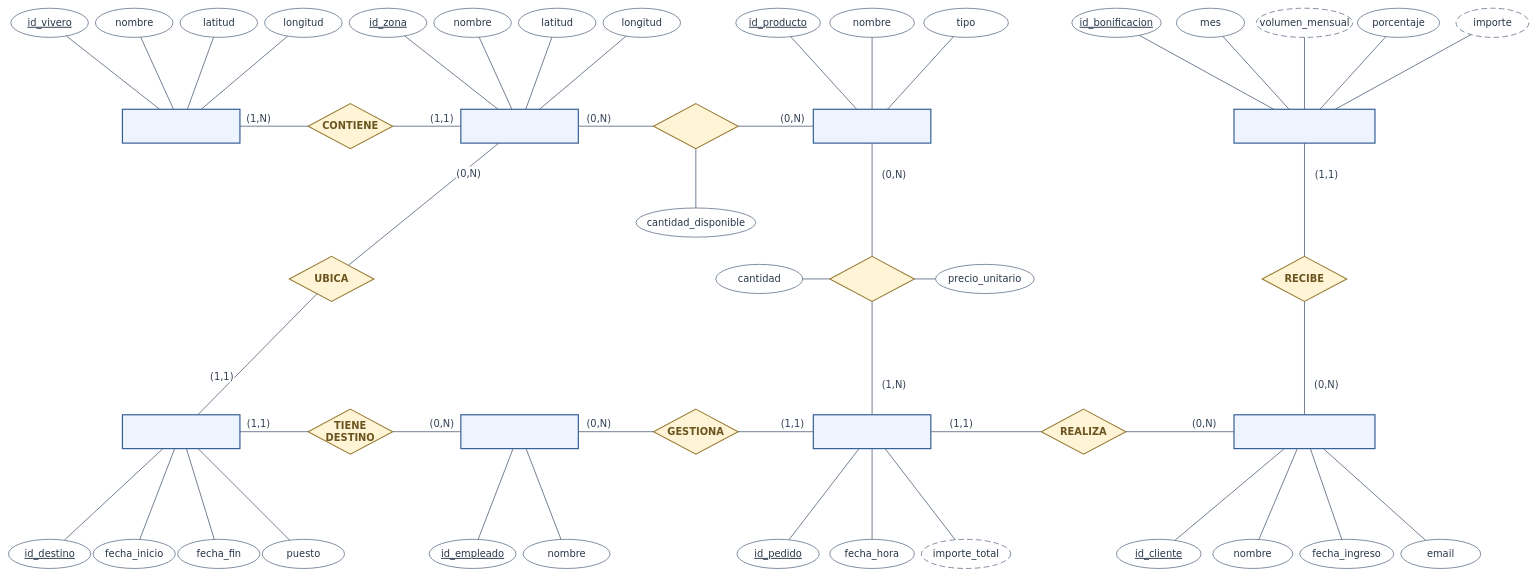
Some shapes in this 1537 by 577 pixel diagram are drawn without their labels. The shapes that lost their labels are listed below. From the top down, each one's centre as x and y in pixels, then its label:
At point 181,125: "VIVERO".
At point 519,125: "ZONA".
At point 695,126: "ALMACENA".
At point 872,125: "PRODUCTO".
At point 1304,125: "BONIFICACION MENSUAL".
At point 872,279: "INCLUYE".
At point 181,431: "DESTINO".
At point 519,431: "EMPLEADO".
At point 872,431: "PEDIDO".
At point 1304,431: "CLIENTE_PLUS".
